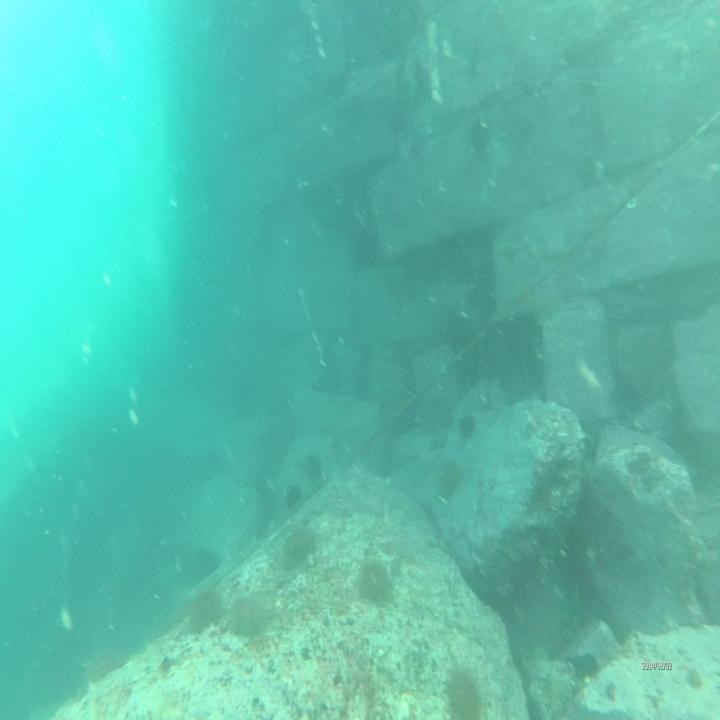echinus: (442, 658, 484, 717), (349, 561, 396, 602), (228, 592, 268, 640), (184, 586, 218, 629), (278, 527, 318, 563), (437, 454, 456, 498), (282, 486, 304, 510), (456, 410, 476, 433)
